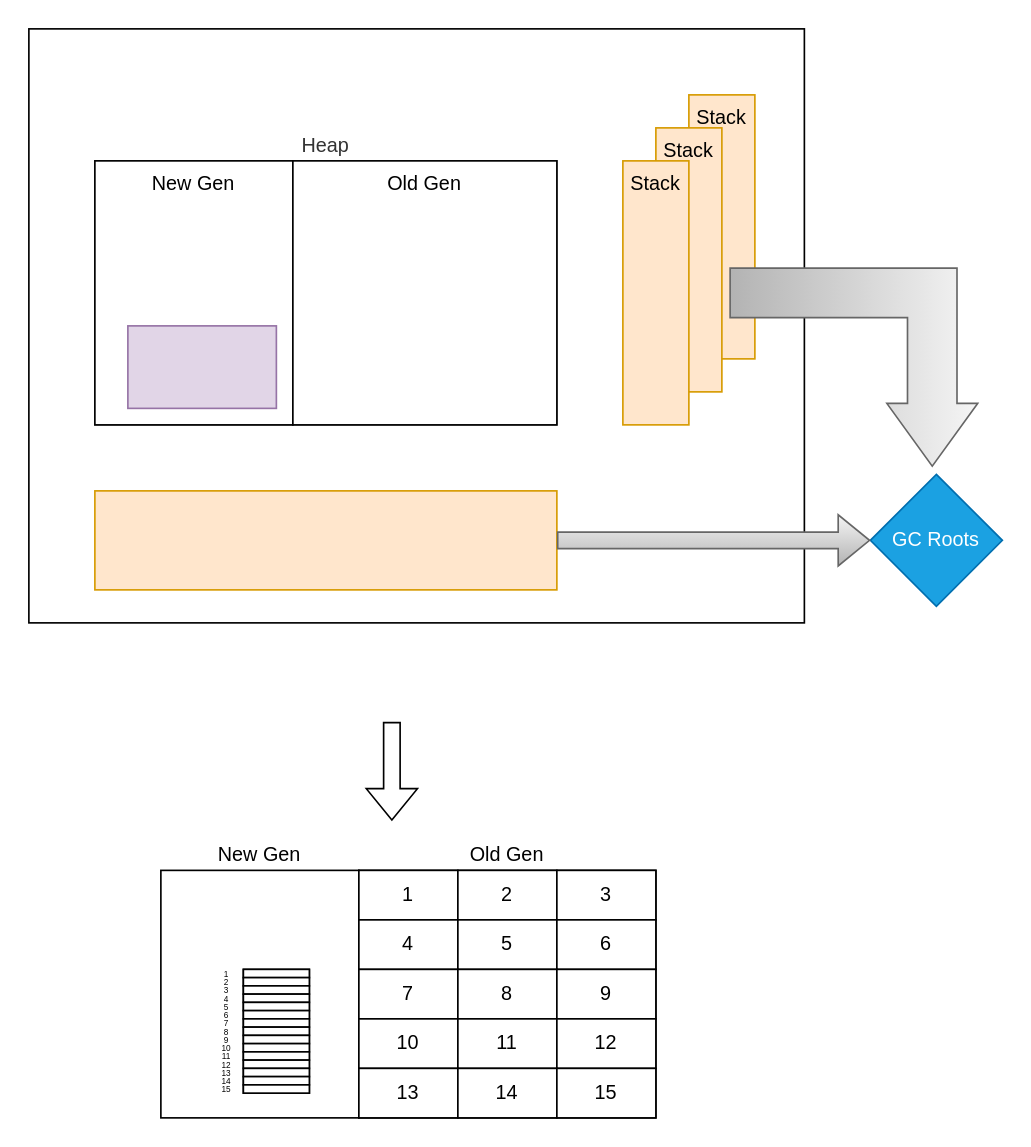
Some shapes in this 1031 by 1147 pixel diagram are drawn without their labels. The shapes that lost their labels are listed below. From the top down, each one's centre as x and y in pixels, then its label:
At [201,366]: "Remembered Set".
At [325,539]: "Method Area".
At [275,1030]: "Card Table".
